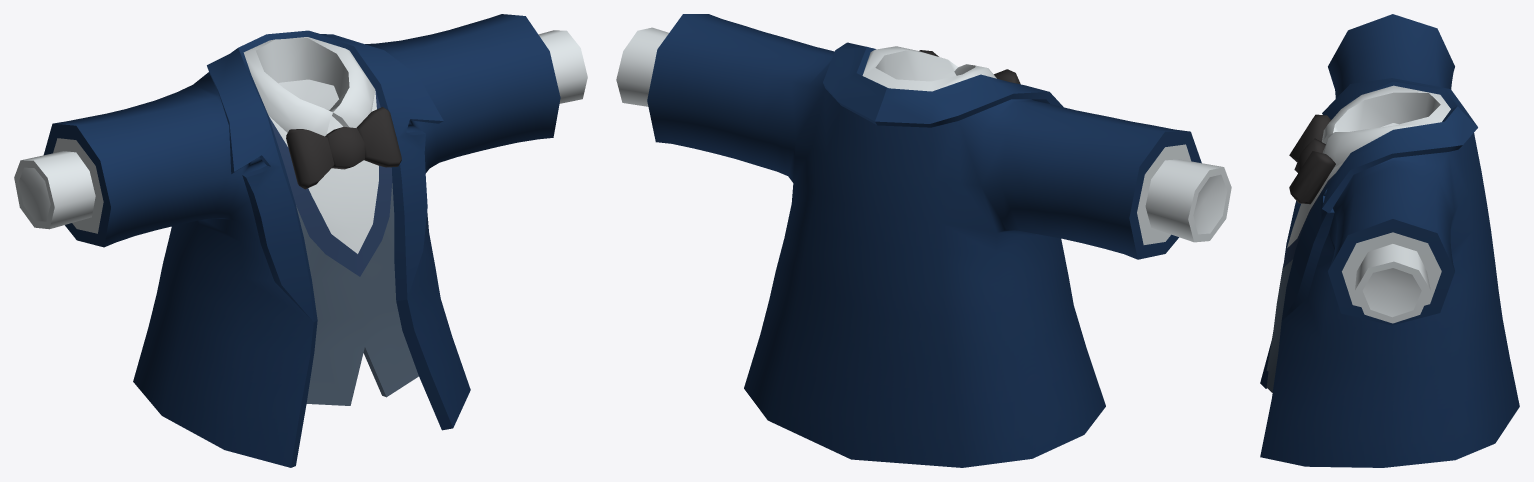
Rendered from Top_70.fbx.
3 renders of one model, left to right at view 1: azimuth 30°, elevation 25°; view 2: azimuth 150°, elevation 25°; view 3: azimuth 270°, elevation 25°, orthographic. The views are drawn at different scales.
Visible parts, largest first — view 1: Top_70; view 2: Top_70; view 3: Top_70.
Part boxes in pixels (x1,y1,x2,y2): Top_70: (14, 14, 587, 467); Top_70: (616, 14, 1231, 467); Top_70: (1260, 14, 1519, 467).
Bounding box in the file's own units: 95.69 × 58.37 × 43.23.
